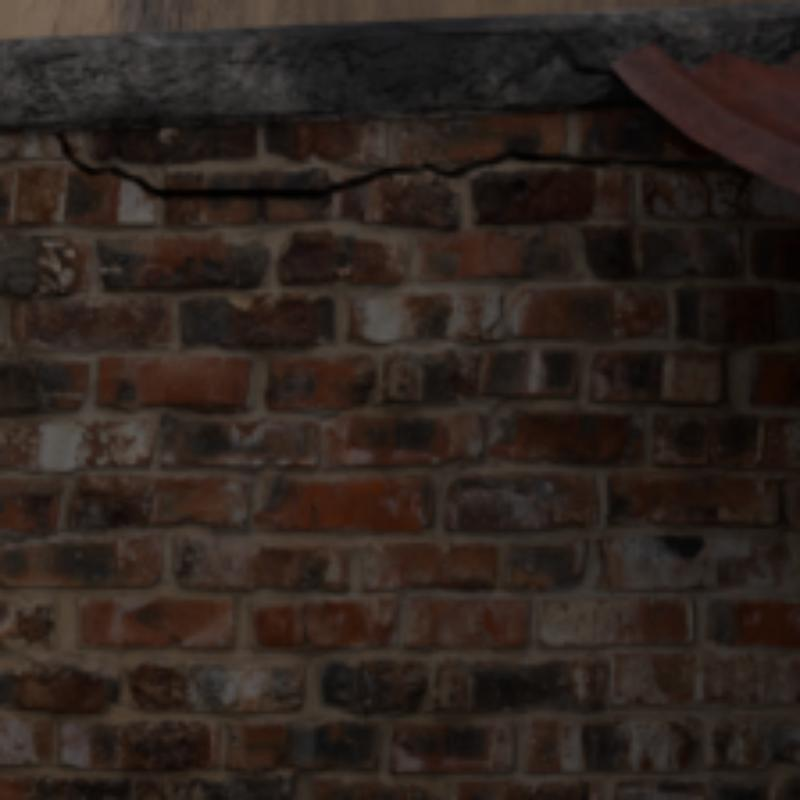crack: (54, 132, 432, 196), (432, 150, 725, 175), (478, 294, 506, 337), (696, 171, 714, 214), (300, 604, 307, 643)
